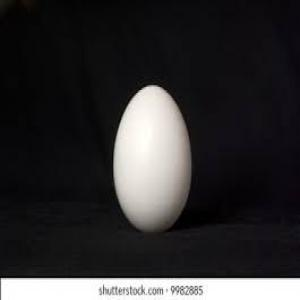Egg: (114, 84, 192, 234)
